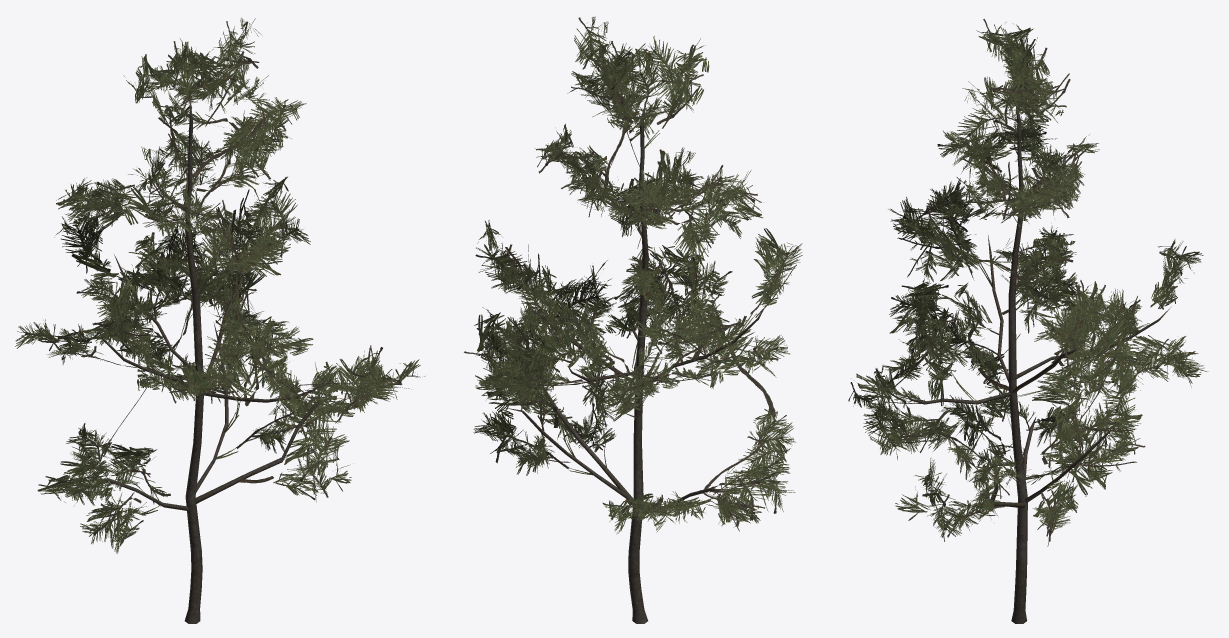
3 renders of one model, left to right at view 1: azimuth 30°, elevation 25°; view 2: azimuth 150°, elevation 25°; view 3: azimuth 270°, elevation 25°, orthographic.
Parts seen in each view (by area): view 1: pine_sapling_small__a_lod0; view 2: pine_sapling_small__a_lod0; view 3: pine_sapling_small__a_lod0.
Boxes of the visible parts, x1=… form: pine_sapling_small__a_lod0: x1=15, y1=17, x2=425, y2=623; pine_sapling_small__a_lod0: x1=464, y1=16, x2=802, y2=623; pine_sapling_small__a_lod0: x1=848, y1=19, x2=1208, y2=623.
Size of the model in its own units: 0.8074 by 1.32 by 0.7565.
Materials: 2 (2 with a texture image).
